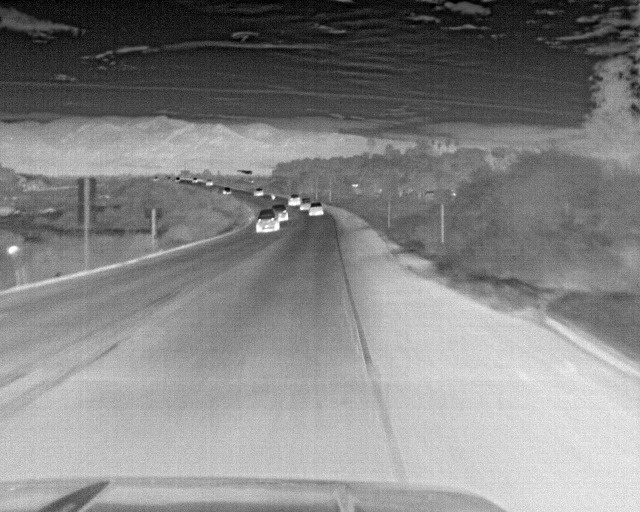vehicle: (255, 210, 281, 232), (310, 202, 324, 216), (291, 196, 305, 206)
